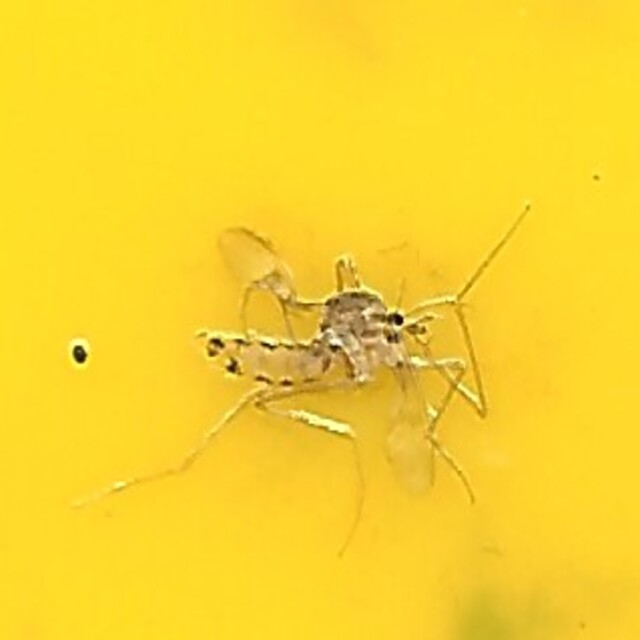Nematocera: (201, 223, 439, 417)
